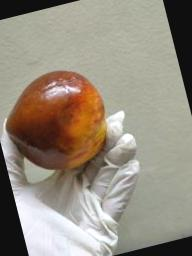Apple Rotten: (0, 57, 118, 186)
